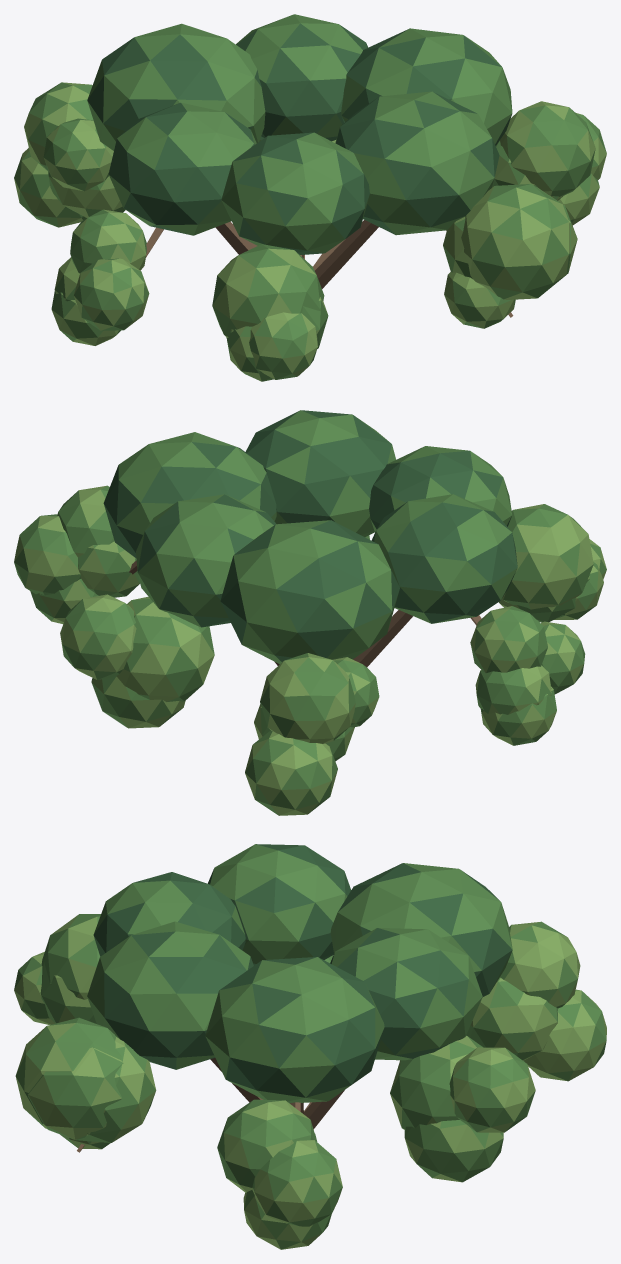
Rendered from bush_bramble.glb.
3 renders of one model, top to bottom at view 1: azimuth 30°, elevation 25°; view 2: azimuth 150°, elevation 25°; view 3: azimuth 270°, elevation 25°, orthographic. The views are drawn at different scales.
Visible parts, largest first — view 1: bush_bramble; view 2: bush_bramble; view 3: bush_bramble.
Boxes of the visible parts, x1,y1,x2,y2 form: bush_bramble: (14,14,606,381); bush_bramble: (14,410,606,815); bush_bramble: (14,844,606,1249).
Size of the model in its own units: 2.29 by 0.9725 by 2.12.
